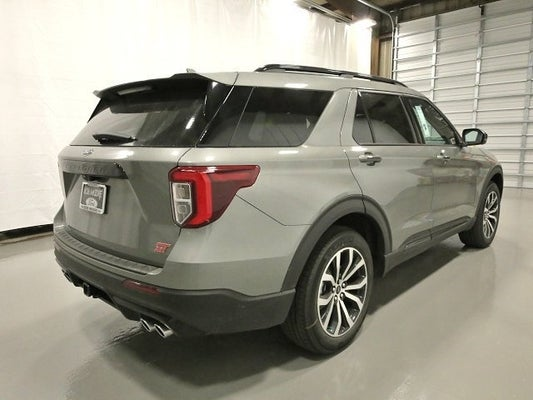Ford Explorer: (48, 57, 509, 357)
